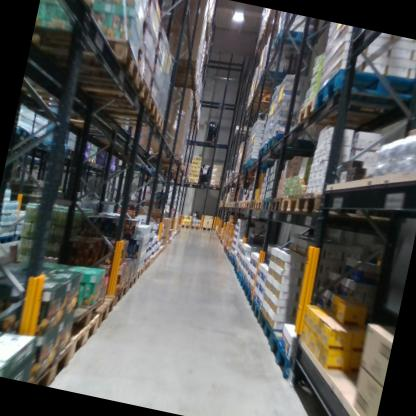pallet: (312, 59, 416, 137), (30, 20, 147, 87), (293, 177, 402, 244), (295, 91, 389, 147), (59, 58, 153, 103), (73, 80, 162, 125), (24, 333, 75, 389), (97, 97, 171, 133), (63, 286, 105, 344), (264, 332, 308, 385), (261, 128, 317, 165), (269, 26, 322, 60), (67, 309, 101, 361), (256, 305, 295, 348), (254, 140, 305, 171), (82, 288, 115, 335), (246, 288, 273, 328), (276, 183, 303, 221), (39, 0, 99, 17), (252, 75, 287, 102), (258, 68, 292, 92), (144, 145, 184, 165), (248, 88, 281, 111), (168, 52, 197, 75), (155, 160, 189, 178), (111, 279, 129, 312), (240, 281, 258, 310), (259, 191, 276, 217), (269, 191, 283, 220), (237, 272, 252, 296), (244, 155, 265, 171), (124, 271, 138, 294), (253, 194, 267, 213), (138, 258, 150, 279), (144, 252, 156, 272), (247, 196, 258, 215), (234, 269, 245, 288), (134, 265, 145, 283), (230, 257, 240, 275), (196, 179, 208, 192), (208, 180, 220, 191), (186, 180, 198, 190), (152, 248, 160, 263), (233, 263, 239, 280), (201, 225, 212, 233), (158, 245, 164, 258), (244, 199, 251, 210), (189, 223, 200, 230), (241, 198, 247, 210), (180, 222, 190, 228)
